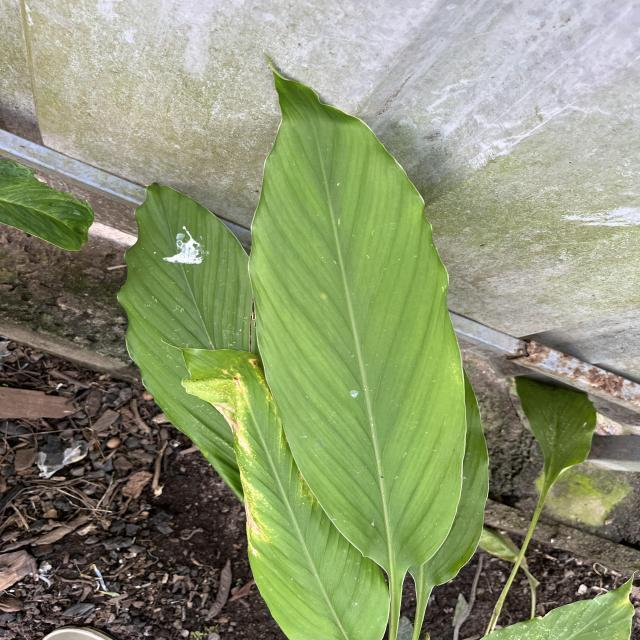Curcuma longa: (245, 47, 473, 580), (112, 179, 250, 506)
